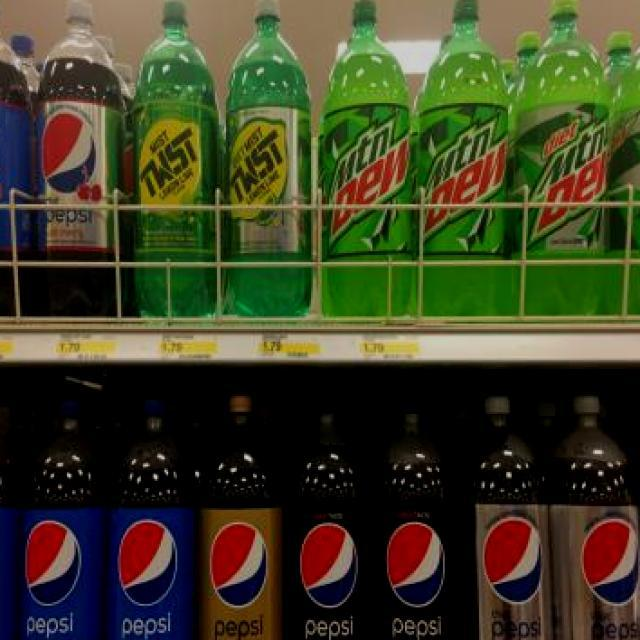Drinks: (513, 0, 611, 316), (416, 0, 508, 316), (34, 0, 124, 316), (321, 0, 410, 316), (459, 392, 553, 640), (370, 388, 459, 640), (106, 394, 196, 640), (193, 392, 282, 640), (551, 392, 640, 640), (18, 394, 107, 640), (282, 387, 367, 640), (0, 0, 31, 318)
